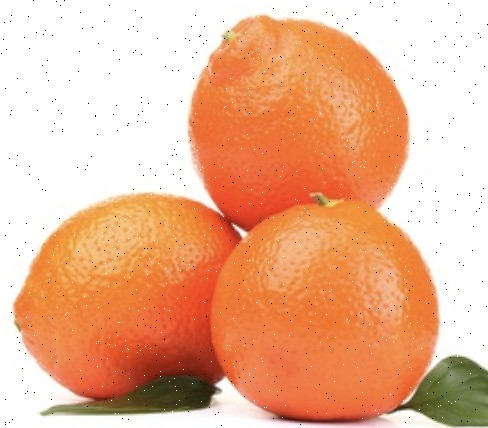fresh_orange: (10, 190, 256, 415), (209, 204, 439, 422), (191, 17, 409, 239)
